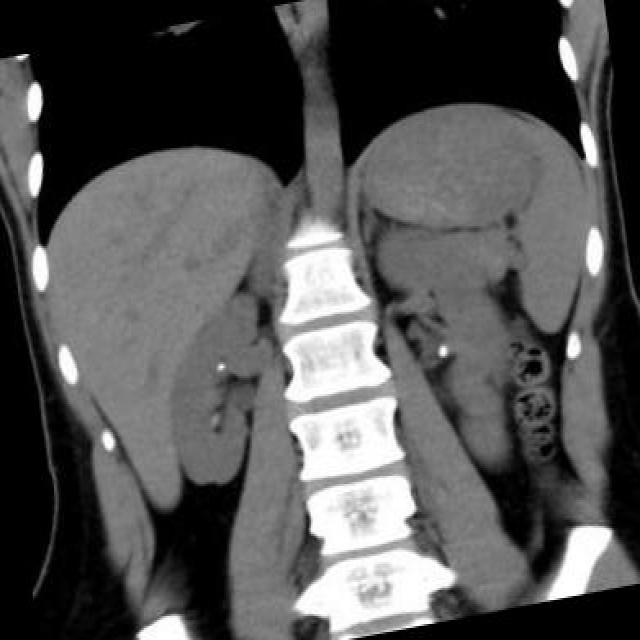Tas_Var: (428, 337, 459, 363), (208, 356, 229, 376)
